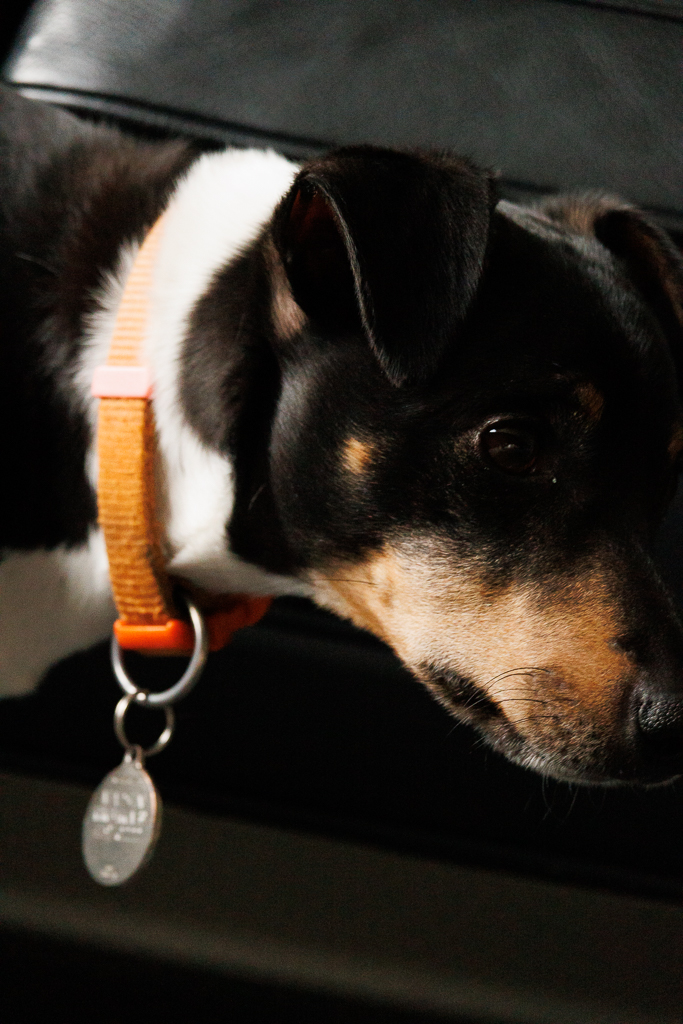Dog: (0, 79, 683, 894)
